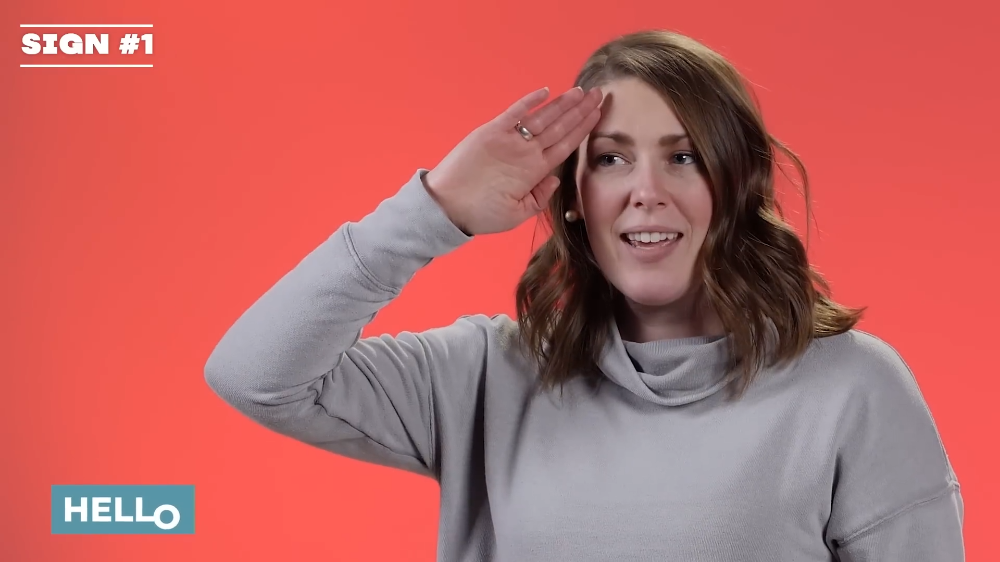hello: (438, 83, 606, 233)
